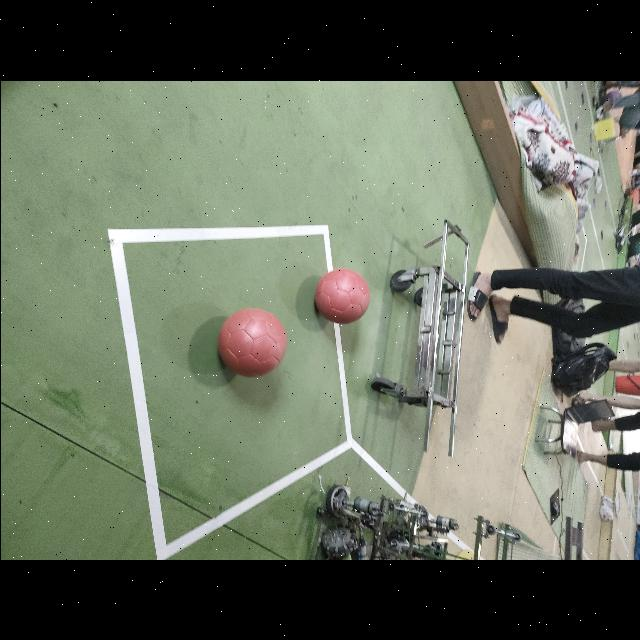R: (218, 308, 286, 376), (314, 268, 370, 324)
